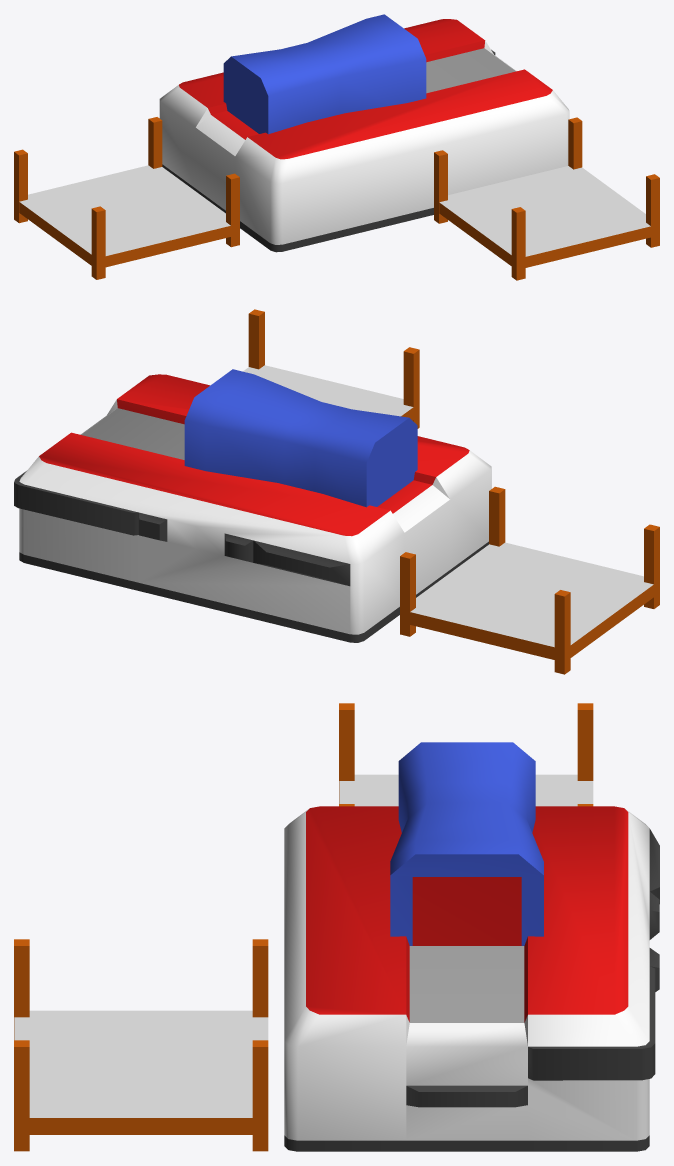
File: MachineTool.fbx
3 views of the same model, one above another, from view 1: azimuth 30°, elevation 25°; view 2: azimuth 150°, elevation 25°; view 3: azimuth 270°, elevation 25° (orthographic). The views are drawn at different scales.
Parts seen in each view (by area): view 1: MachineTool; view 2: MachineTool; view 3: MachineTool.
Boxes of the visible parts, bbox=[...] form: MachineTool: bbox=[14, 14, 659, 280]; MachineTool: bbox=[14, 309, 659, 674]; MachineTool: bbox=[14, 703, 659, 1151].
Size of the model in its own units: 3051 by 870 by 2388.
